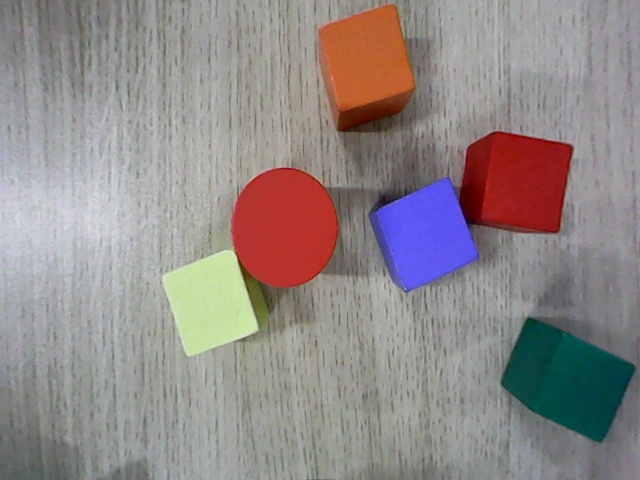upside of cylinder: (233, 168, 338, 288)
upside of small cube: (375, 177, 481, 292), (159, 248, 261, 359), (533, 332, 635, 443), (318, 3, 416, 113), (482, 131, 572, 233)
